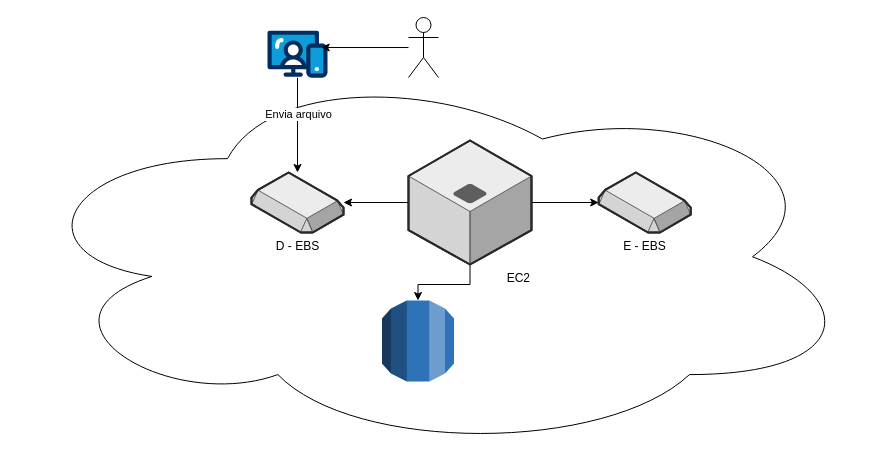
Image size: 875x471. Some labels were removed from this diagram. Each missing label, with the box of its shape:
RDS: (381, 300, 454, 382)
Usuario: (408, 16, 438, 78)
